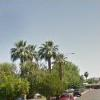Palm tree: (9, 31, 77, 82)
